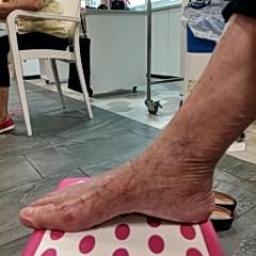Medial View -Right Foot-: (6, 121, 237, 243)
